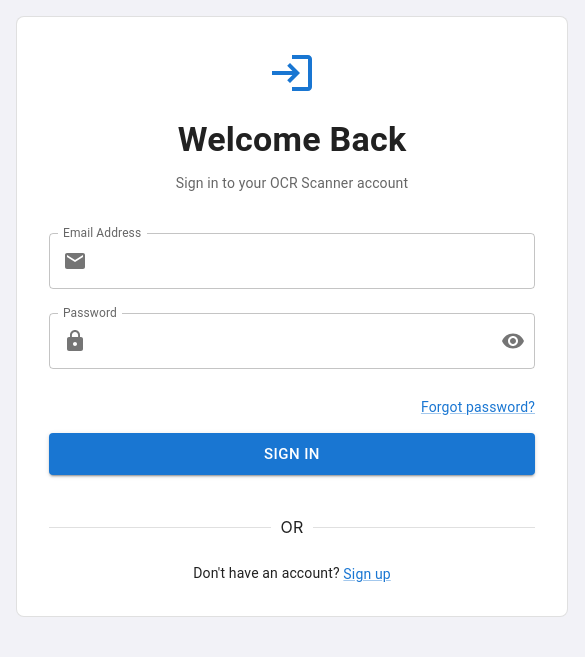
Test: LoginForm › form validation › shows "Password is required" error when password is empty on submit
The width and height of the screenshot is (585, 657).
Type "user@example.com" into the field labelled "Email Address" at (315, 261), box x1=95 y1=233 x2=535 y2=289
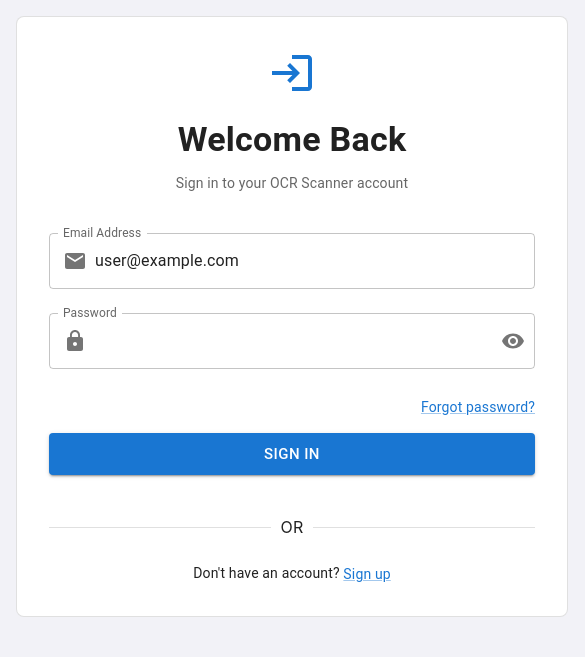
Click the button "Sign In" at (292, 454), box x1=49 y1=433 x2=535 y2=475
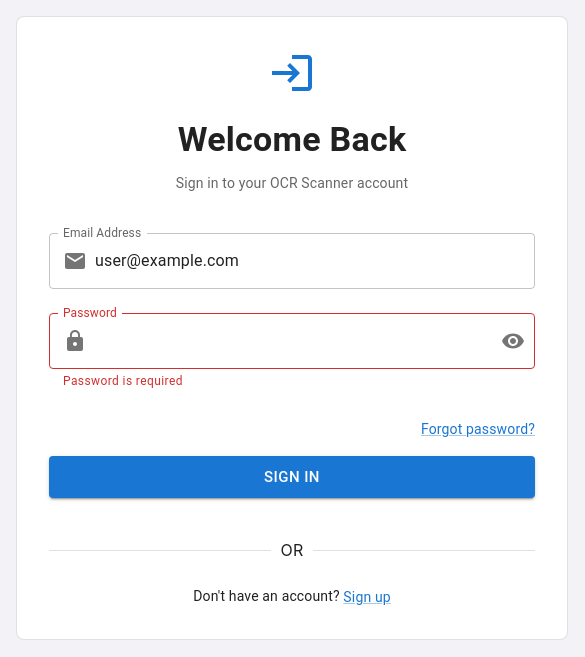
Check: the text "Password is required" is shown, box x1=63 y1=374 x2=183 y2=388
